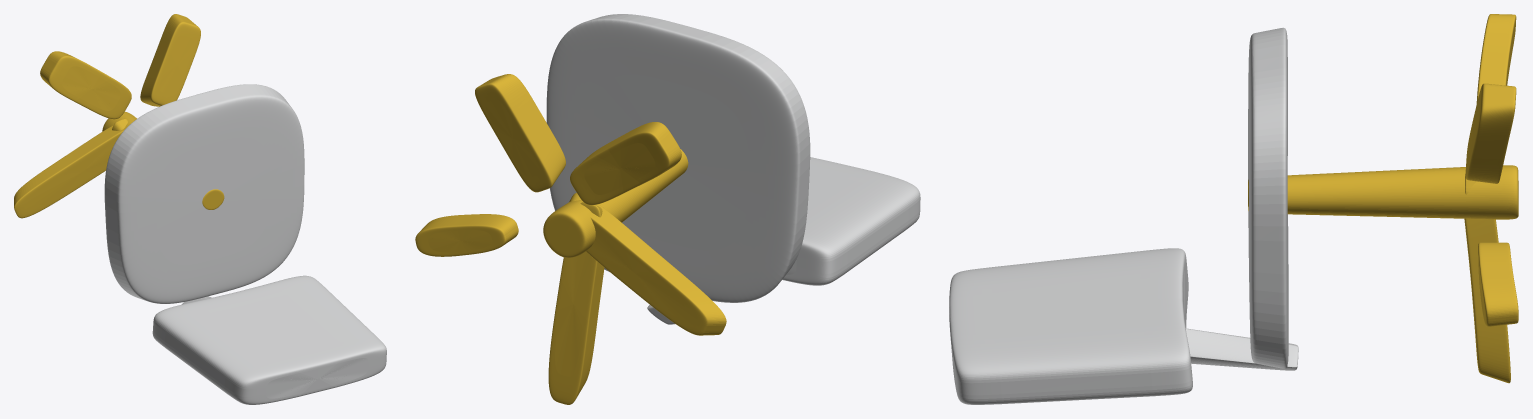
File: 6_working_chair.glb
3 views of the same model, side by side, from view 1: azimuth 30°, elevation 25°; view 2: azimuth 150°, elevation 25°; view 3: azimuth 270°, elevation 25° (orthographic). The views are drawn at different scales.
Parts seen in each view (by area): view 1: superquadric_0, superquadric_2, superquadric_4, superquadric_5, superquadric_7, superquadric_1; view 2: superquadric_0, superquadric_2, superquadric_4, superquadric_3, superquadric_7, superquadric_5, superquadric_1, superquadric_6; view 3: superquadric_2, superquadric_0, superquadric_1, superquadric_7, superquadric_3, superquadric_6, superquadric_8, superquadric_5.
Part boxes in pixels (x1,y1,x2,y2): superquadric_0: (104,84,304,303); superquadric_2: (152,275,386,404); superquadric_4: (14,120,134,218); superquadric_5: (40,51,131,119); superquadric_7: (140,14,200,106); superquadric_1: (102,111,224,209); superquadric_0: (546,14,810,302); superquadric_2: (782,157,920,285); superquadric_4: (569,193,726,335); superquadric_3: (548,202,604,404); superquadric_7: (475,74,565,192); superquadric_5: (570,122,681,205); superquadric_1: (543,149,688,257); superquadric_6: (415,214,518,256); superquadric_2: (949,248,1192,404); superquadric_0: (1248,27,1288,368); superquadric_1: (1248,165,1518,219); superquadric_7: (1465,83,1516,183); superquadric_3: (1464,218,1510,383); superquadric_6: (1478,242,1518,326); superquadric_8: (1185,328,1298,370); superquadric_5: (1476,14,1516,103).
Bounding box in the file's own units: 0.6588 × 0.6386 × 1.
